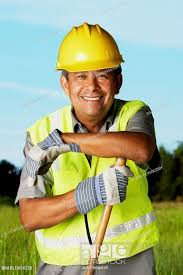Person_wearing_helmet: (45, 19, 129, 88)
